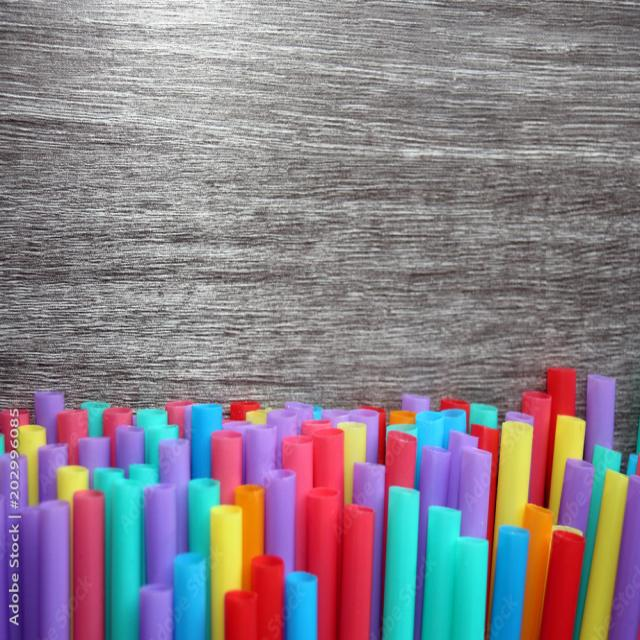plastic: (377, 472, 427, 640)
